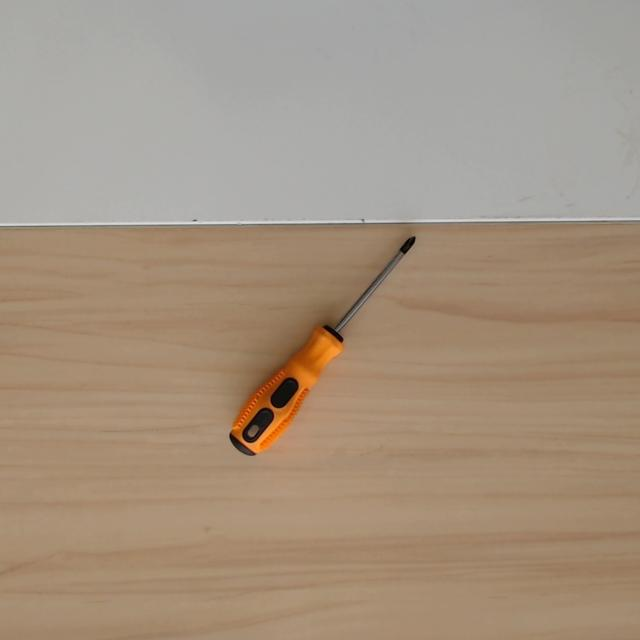Obeng-Besar: (221, 216, 424, 466)
